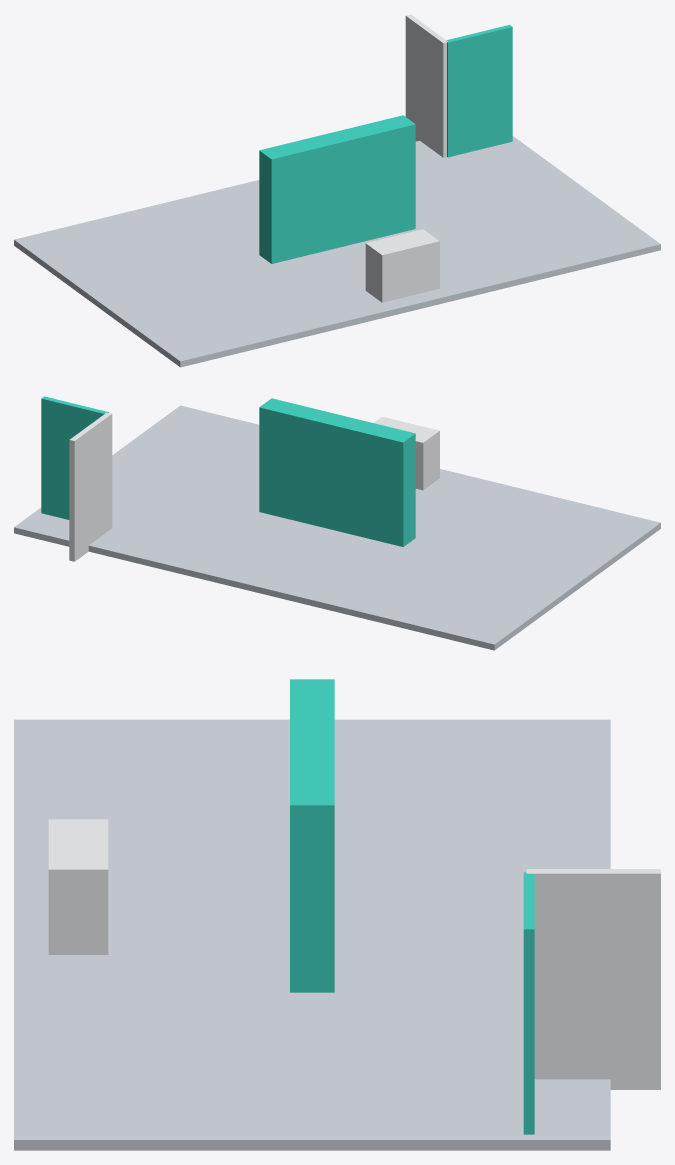
3 renders of one model, top to bottom at view 1: azimuth 30°, elevation 25°; view 2: azimuth 150°, elevation 25°; view 3: azimuth 270°, elevation 25°, orthographic. The views are drawn at different scales.
Parts seen in each view (by area): view 1: Exhibition Booth Concept; view 2: Exhibition Booth Concept; view 3: Exhibition Booth Concept.
Boxes of the visible parts, <box> form: Exhibition Booth Concept: <box>14,14,660,367</box>; Exhibition Booth Concept: <box>14,396,660,650</box>; Exhibition Booth Concept: <box>14,679,660,1150</box>.
Size of the model in its own units: 10 by 2.4 by 6.51.
